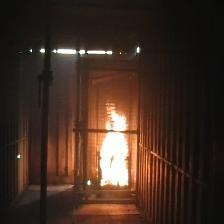fire: (95, 101, 136, 192)
